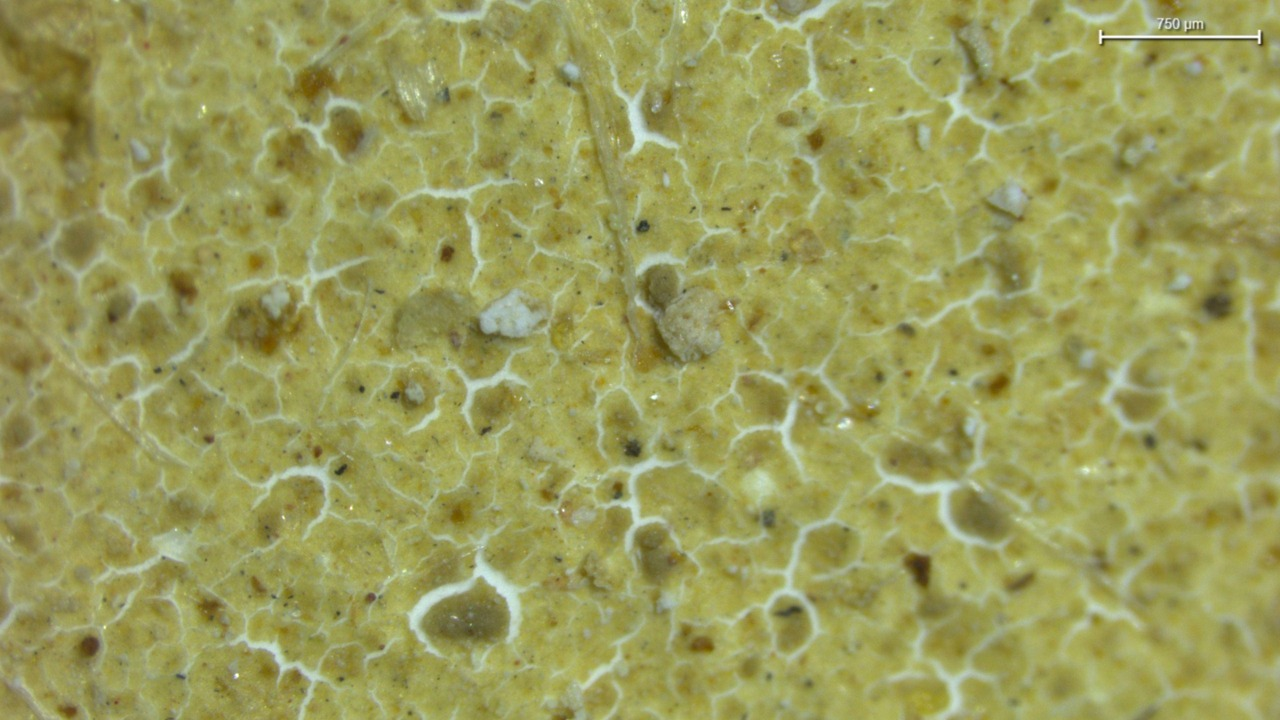microplastic_fragment: (656, 287, 722, 361), (478, 289, 543, 338), (986, 182, 1029, 218)
